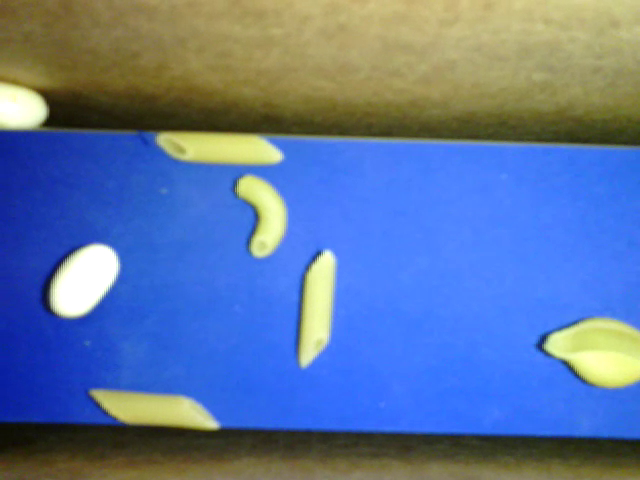elbow: (233, 172, 288, 259)
penne: (89, 388, 221, 429), (297, 248, 336, 369), (153, 131, 284, 165)
shell: (541, 317, 639, 387)
